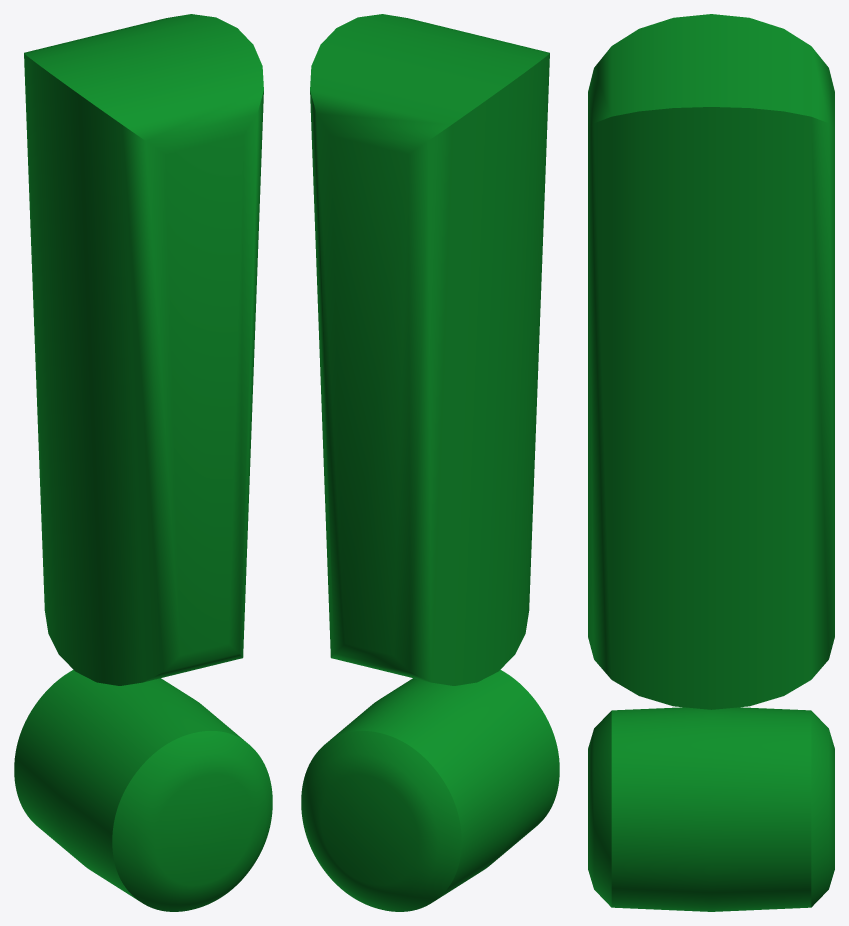
The model's file is Miscellaneous_Exclamationmark_01.fbx.
3 views of the same model, side by side, from view 1: azimuth 30°, elevation 25°; view 2: azimuth 150°, elevation 25°; view 3: azimuth 270°, elevation 25° (orthographic).
Parts seen in each view (by area): view 1: Text !; view 2: Text !; view 3: Text !.
Part boxes in pixels (box(x1,y1,x2,y2)): Text !: box(14, 14, 272, 911); Text !: box(301, 14, 559, 911); Text !: box(588, 14, 834, 911).
Size of the model in its own units: 0.7122 by 3.01 by 0.8.
